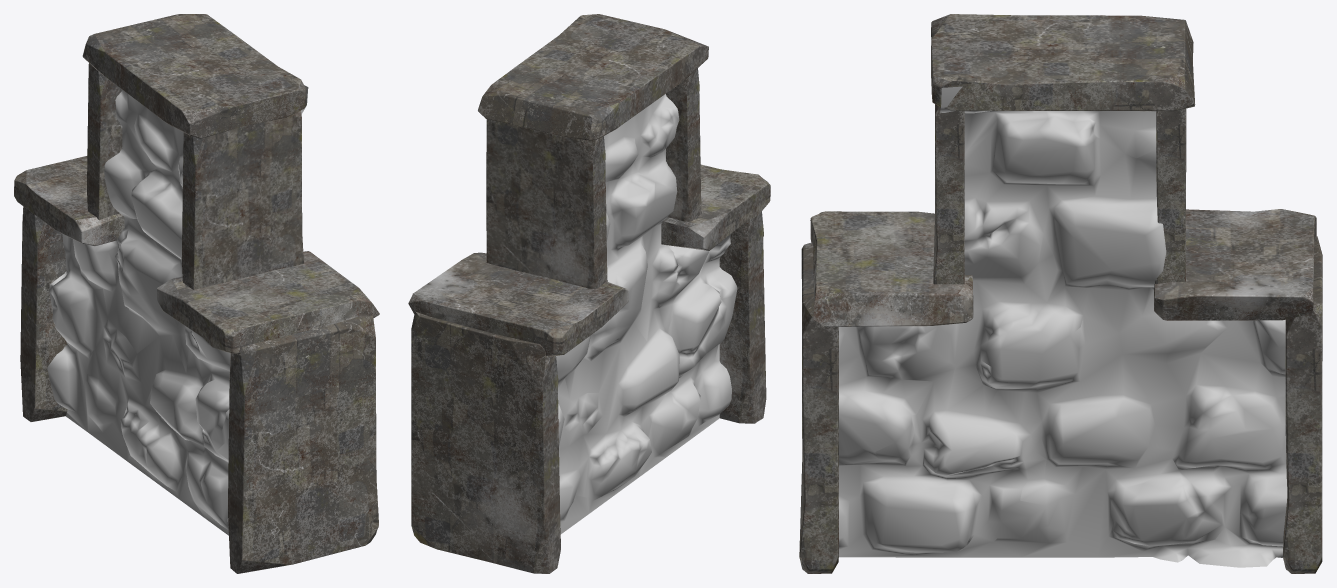
File: SM_Crenel_A_02.fbx
3 views of the same model, side by side, from view 1: azimuth 30°, elevation 25°; view 2: azimuth 150°, elevation 25°; view 3: azimuth 270°, elevation 25° (orthographic). The views are drawn at different scales.
Parts seen in each view (by area): view 1: SM_Crenel_A_02_LOD0; view 2: SM_Crenel_A_02_LOD0; view 3: SM_Crenel_A_02_LOD0.
Boxes of the visible parts, x1=… form: SM_Crenel_A_02_LOD0: x1=14, y1=14, x2=379, y2=573; SM_Crenel_A_02_LOD0: x1=408, y1=14, x2=770, y2=573; SM_Crenel_A_02_LOD0: x1=799, y1=14, x2=1322, y2=573.
Bounding box in the file's own units: 86.04 × 216 × 224.
